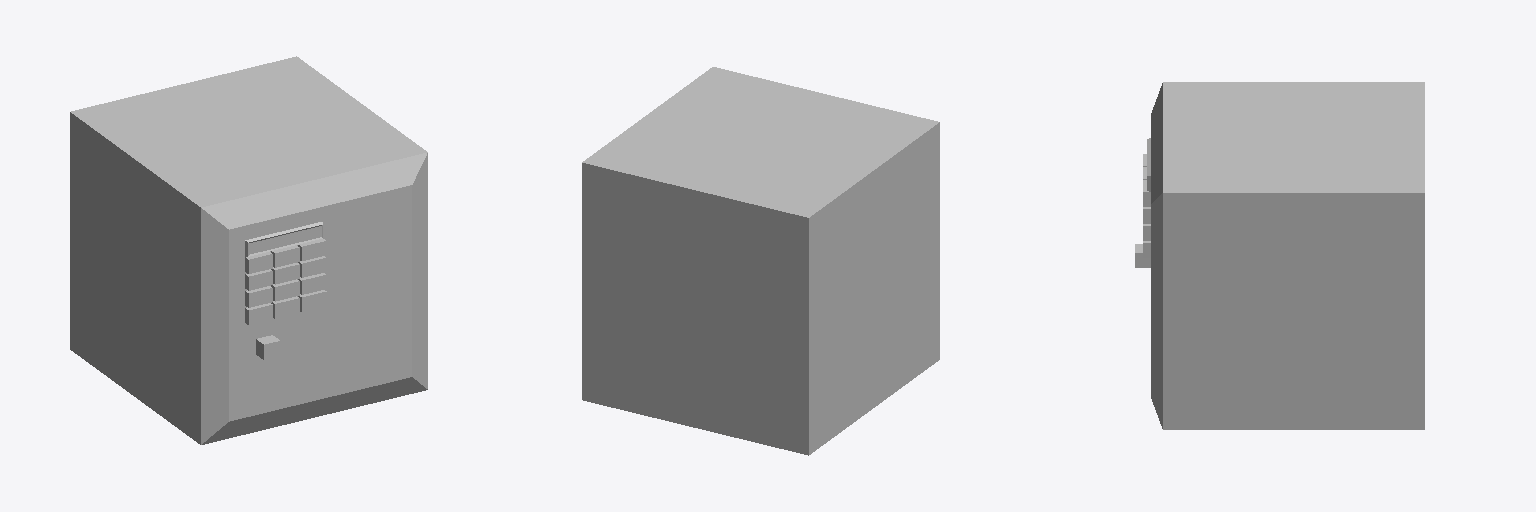
File: Safe.obj
3 renders of one model, left to right at view 1: azimuth 30°, elevation 25°; view 2: azimuth 150°, elevation 25°; view 3: azimuth 270°, elevation 25°, orthographic.
Visible parts, largest first — view 1: Safe; view 2: Safe; view 3: Safe.
Part boxes in pixels (x1,y1,x2,y2): Safe: (70, 56, 427, 444); Safe: (582, 67, 939, 455); Safe: (1135, 82, 1424, 429).
Bounding box in the file's own units: 0.6 × 0.6 × 0.6645.